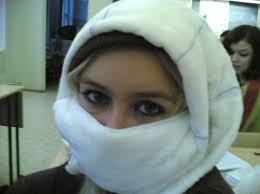NONE: (227, 47, 252, 74)
WRONG: (78, 63, 177, 166)
